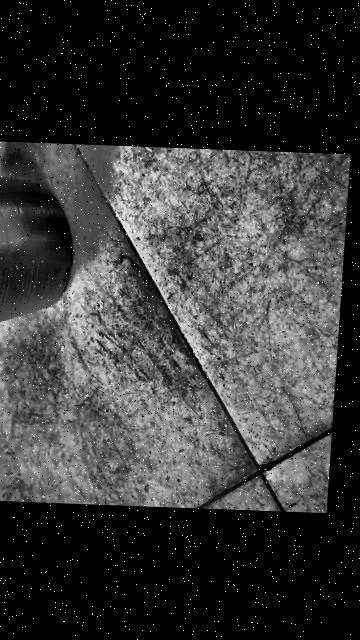pot: (0, 159, 79, 351)
